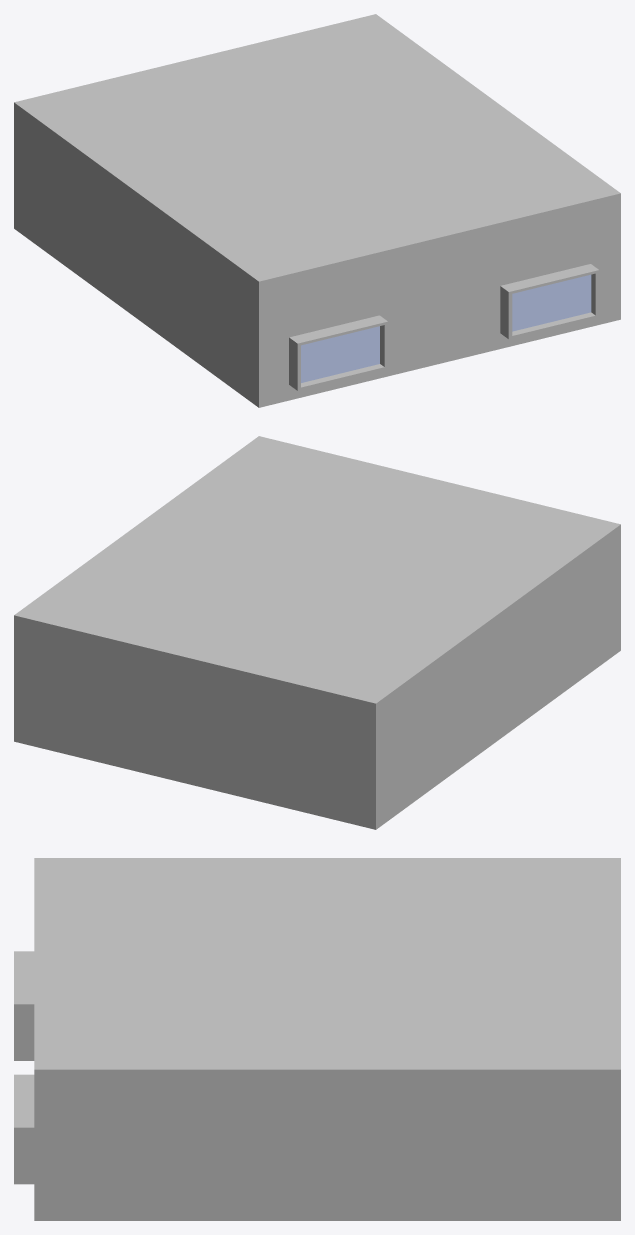
Rendered from PetShopRoom.fbx.
3 renders of one model, top to bottom at view 1: azimuth 30°, elevation 25°; view 2: azimuth 150°, elevation 25°; view 3: azimuth 270°, elevation 25°, orthographic. The views are drawn at different scales.
Parts seen in each view (by area): view 1: pCube735; view 2: pCube735; view 3: pCube735.
Boxes of the visible parts, x1,y1,x2,y2 form: pCube735: (14, 14, 620, 407); pCube735: (14, 436, 620, 829); pCube735: (14, 858, 620, 1220).
Size of the model in its own units: 1200 by 400 by 1455.
